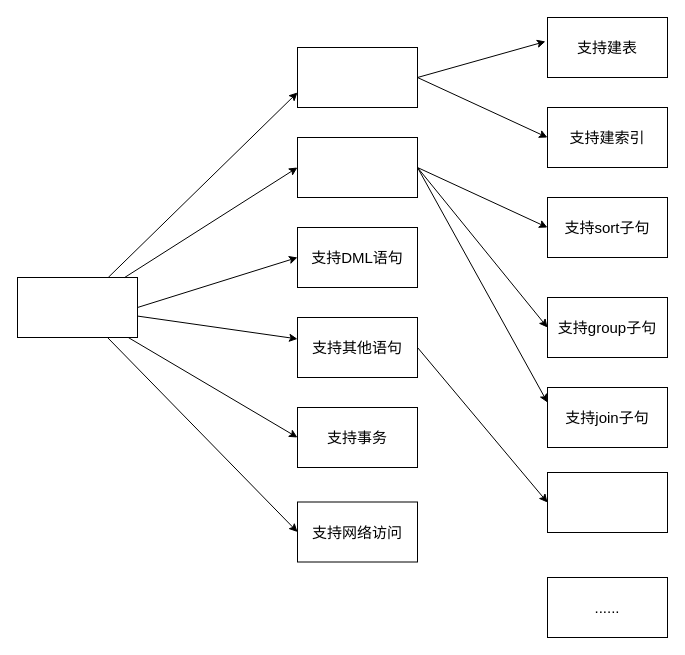
The diagram is 685 pixels wide and 655 high, and some of its shapes have lost their labels. The centre of each missing label's shape, as x and y in pixels:
支持DDL语句: [357,77]
支持DQL语句: [357,167]
支持explain: [607,502]
目标场景: [77,307]
